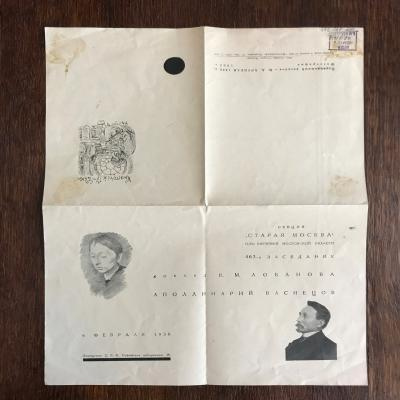document: (44, 28, 366, 388)
